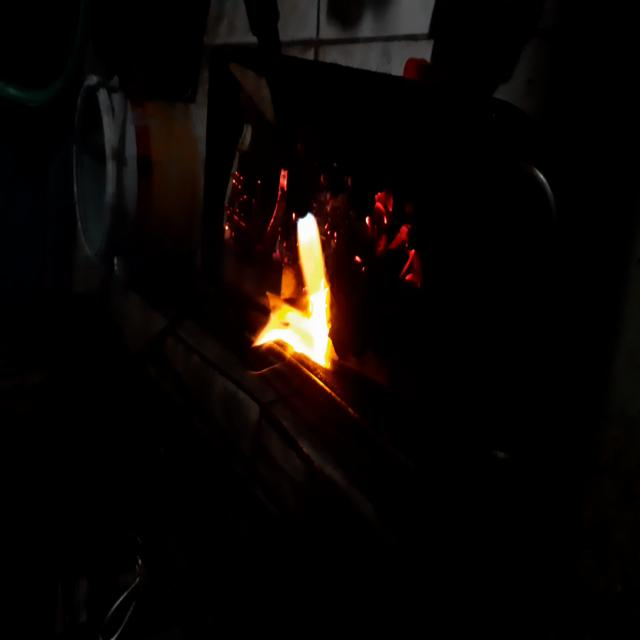Fire: (248, 193, 346, 410), (358, 174, 428, 308)
